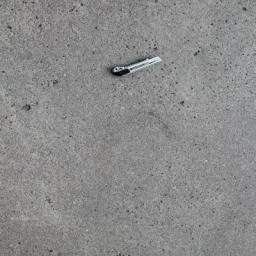FOD: (109, 53, 166, 81)
